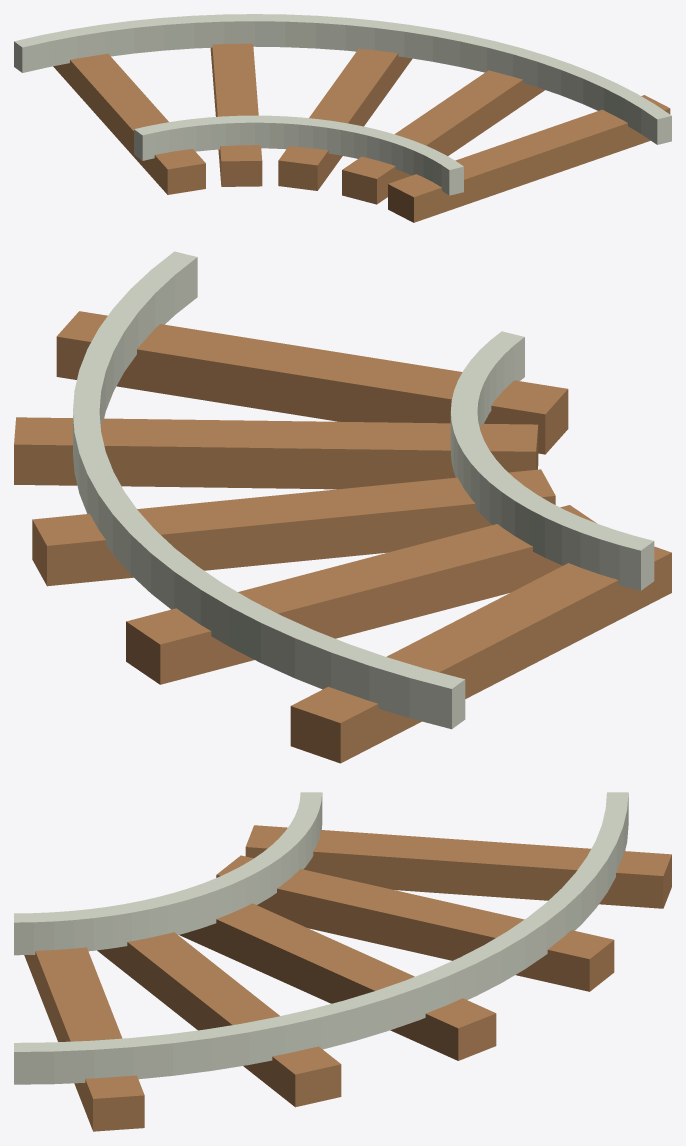
Rendered from rail-curve_down_left.glb.
3 renders of one model, top to bottom at view 1: azimuth 30°, elevation 25°; view 2: azimuth 150°, elevation 25°; view 3: azimuth 270°, elevation 25°, orthographic. The views are drawn at different scales.
Visible parts, largest first — view 1: Mesh_rail-curve_down_left_wood, Mesh_rail-curve_down_left_rail; view 2: Mesh_rail-curve_down_left_wood, Mesh_rail-curve_down_left_rail; view 3: Mesh_rail-curve_down_left_wood, Mesh_rail-curve_down_left_rail.
Part boxes in pixels (x1,y1,x2,y2): Mesh_rail-curve_down_left_wood: (53, 43, 670, 222); Mesh_rail-curve_down_left_rail: (14, 14, 671, 195); Mesh_rail-curve_down_left_wood: (14, 311, 671, 763); Mesh_rail-curve_down_left_rail: (73, 251, 654, 729); Mesh_rail-curve_down_left_wood: (24, 825, 671, 1131); Mesh_rail-curve_down_left_rail: (14, 792, 628, 1084).
Size of the model in its own units: 0.7302 by 0.075 by 0.7302.
